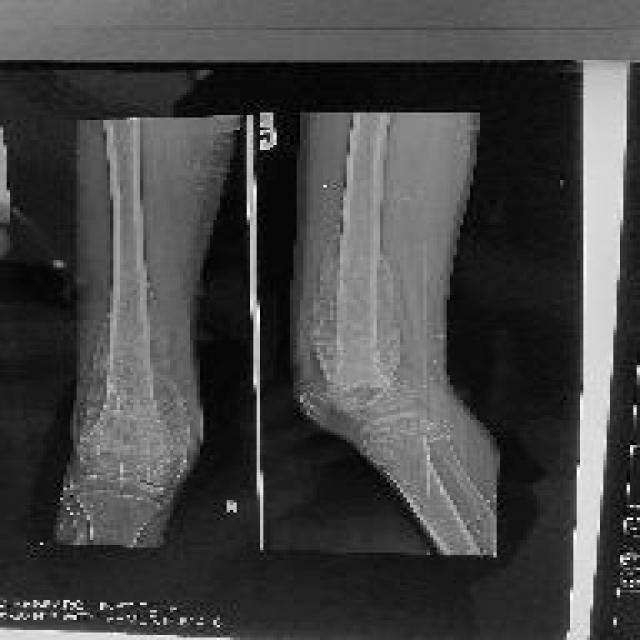bone-cancer: (75, 310, 189, 460), (304, 236, 404, 405)
